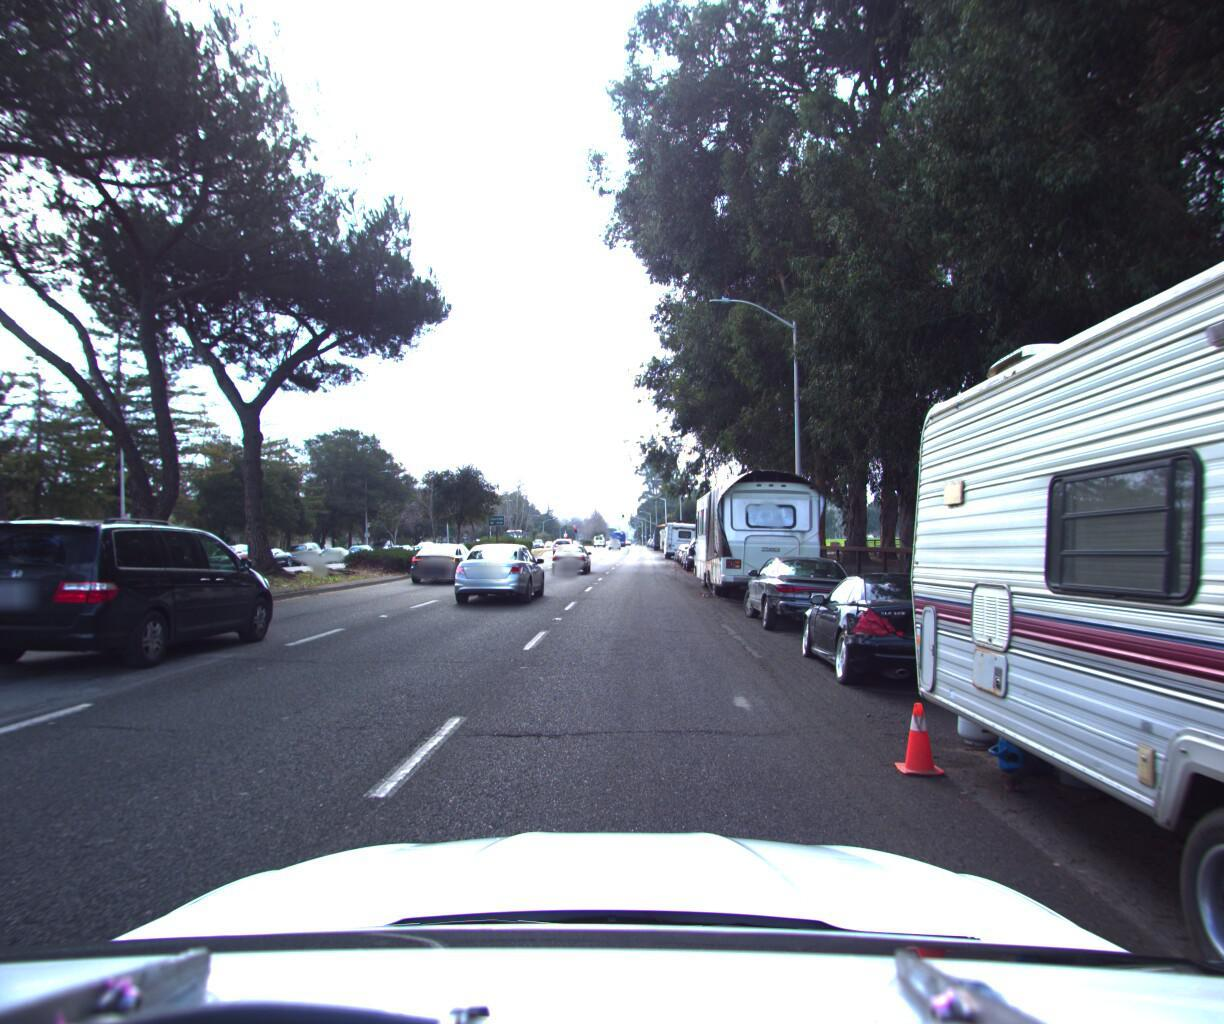car: (0, 513, 296, 685), (786, 554, 1034, 706), (738, 542, 877, 633), (443, 537, 552, 606), (408, 538, 483, 582), (0, 547, 41, 597), (680, 528, 725, 566), (549, 536, 593, 569), (276, 537, 326, 564), (312, 542, 353, 561), (553, 532, 579, 551)
other_vehicle: (689, 461, 832, 602), (660, 513, 700, 553)
